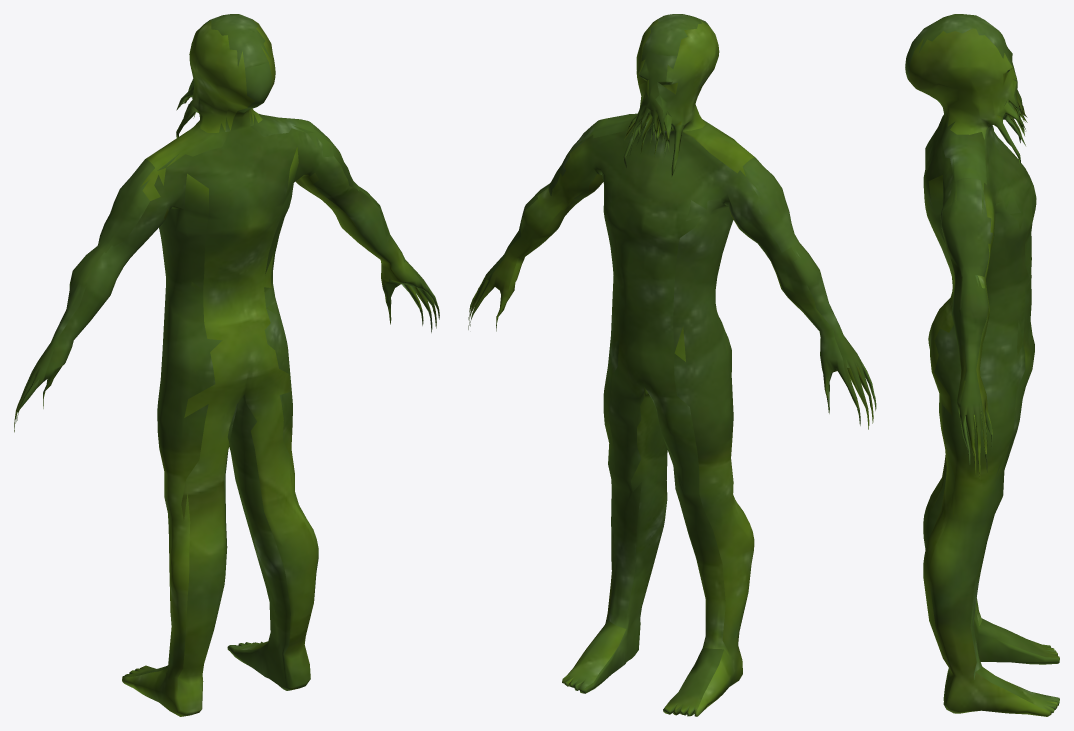
The model's file is Cthulhu.obj.
The picture shows the model from 3 angles, left to right: view 1: azimuth 30°, elevation 25°; view 2: azimuth 150°, elevation 25°; view 3: azimuth 270°, elevation 25°; orthographic projection. The views are drawn at different scales.
Visible parts, largest first — view 1: Mesh; view 2: Mesh; view 3: Mesh.
Part boxes in pixels (x1=…): Mesh: x1=14, y1=14, x2=439, y2=716; Mesh: x1=468, y1=14, x2=876, y2=716; Mesh: x1=905, y1=14, x2=1059, y2=716.
Bounding box in the file's own units: 4.79 × 7.38 × 1.56.
Materials: 1 (1 with a texture image).
